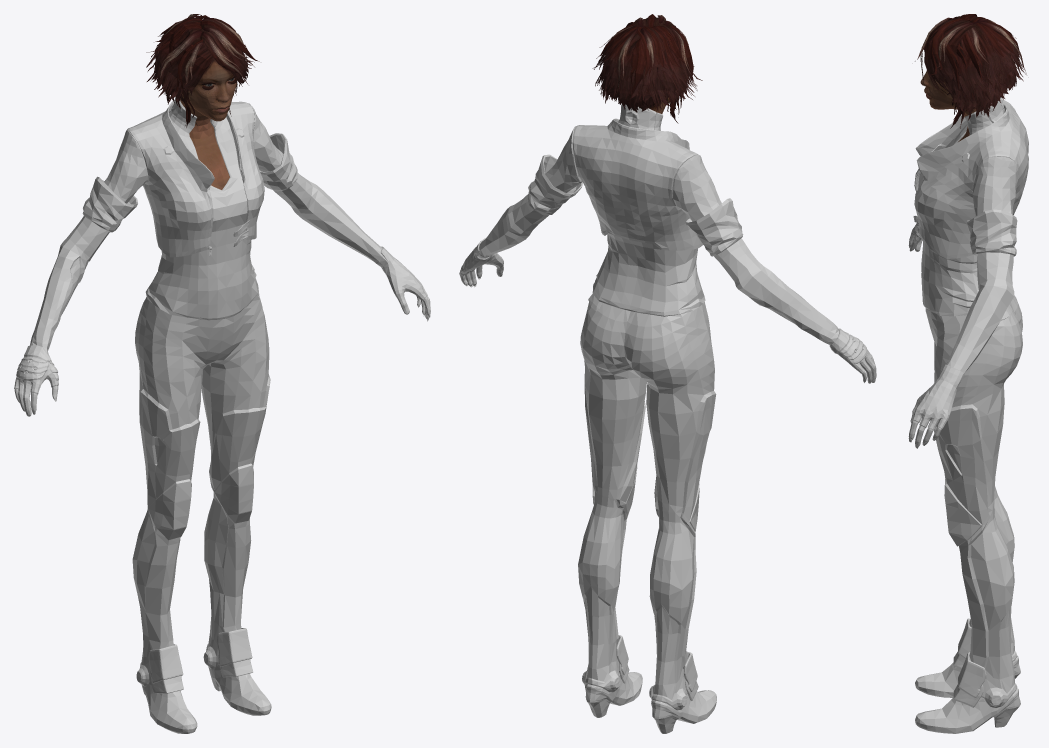
The model's file is nilin_c.obj.
3 renders of one model, left to right at view 1: azimuth 30°, elevation 25°; view 2: azimuth 150°, elevation 25°; view 3: azimuth 270°, elevation 25°, orthographic.
Parts seen in each view (by area): view 1: 3eb267b8_obj, 3ebf7b18_obj, 3ebace20_obj; view 2: 3eb267b8_obj, 3ebf7b18_obj; view 3: 3eb267b8_obj, 3ebf7b18_obj, 3ebace20_obj.
Part boxes in pixels (left/top/right/bottom): 3eb267b8_obj: left=14, top=97, right=430, bottom=733; 3ebf7b18_obj: left=146, top=14, right=259, bottom=127; 3ebace20_obj: left=180, top=58, right=236, bottom=189; 3eb267b8_obj: left=459, top=104, right=876, bottom=733; 3ebf7b18_obj: left=592, top=14, right=702, bottom=123; 3eb267b8_obj: left=908, top=97, right=1028, bottom=733; 3ebf7b18_obj: left=915, top=14, right=1026, bottom=128; 3ebace20_obj: left=920, top=70, right=976, bottom=141.
Bounding box in the file's own units: 3.08 × 4.99 × 0.8494.
